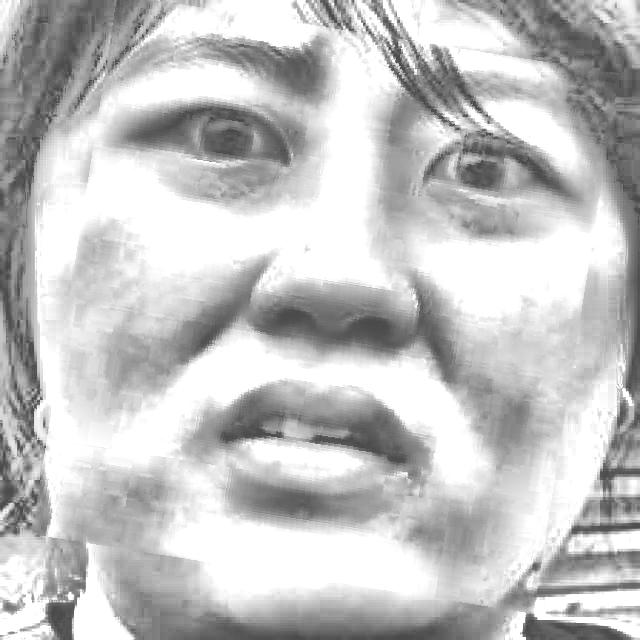fear: (52, 12, 600, 595)
